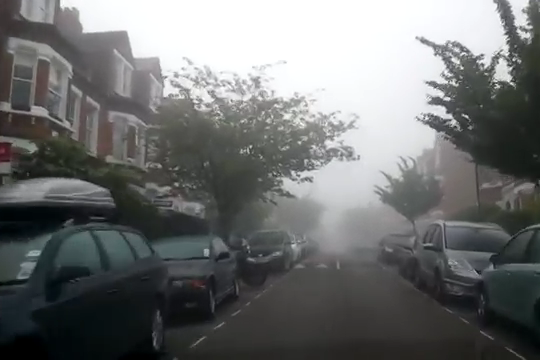car: (1, 219, 174, 360), (122, 233, 241, 320), (416, 219, 524, 312), (470, 219, 540, 333), (238, 229, 296, 274), (376, 228, 419, 269), (266, 231, 304, 267)
